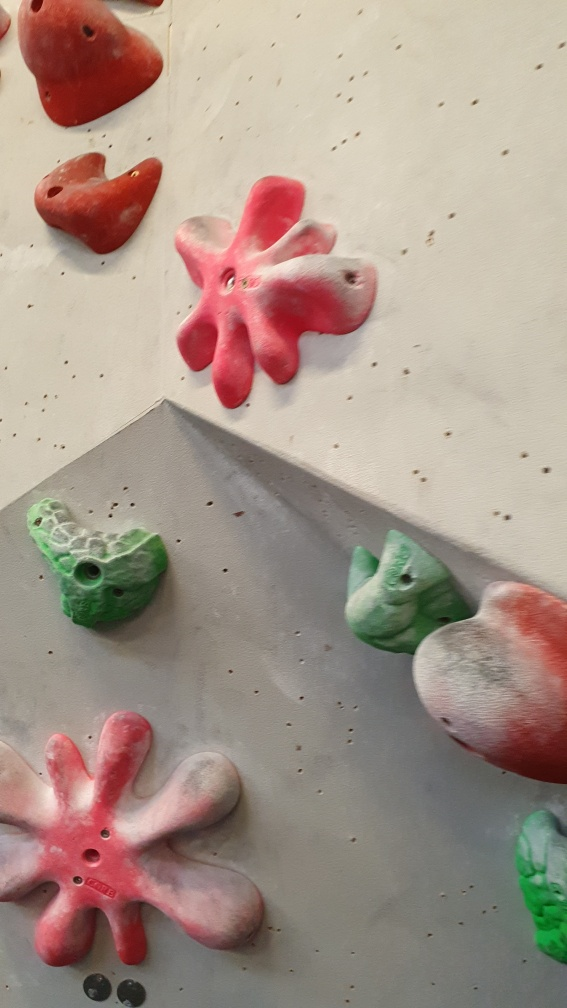Hand Start: (79, 973, 114, 1003), (118, 976, 148, 1005)
Jug: (342, 525, 474, 659)
Octopus Pinch: (1, 712, 274, 968), (175, 171, 382, 412)
Sloper: (407, 581, 567, 786), (13, 1, 172, 134)
